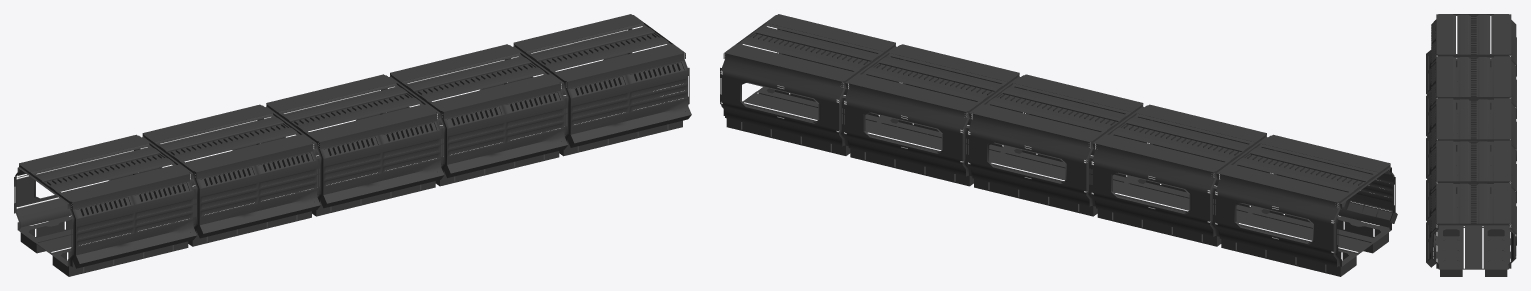
3 views of the same model, side by side, from view 1: azimuth 30°, elevation 25°; view 2: azimuth 150°, elevation 25°; view 3: azimuth 270°, elevation 25° (orthographic). The views are drawn at different scales.
Parts seen in each view (by area): view 1: modulo; view 2: modulo; view 3: modulo.
Part boxes in pixels (bbox=[...]): modulo: bbox=[14, 14, 691, 276]; modulo: bbox=[720, 14, 1397, 276]; modulo: bbox=[1426, 14, 1516, 276].
Bounding box in the file's own units: 40 × 4.71 × 7.26.
Materials: 2 (2 with a texture image).
